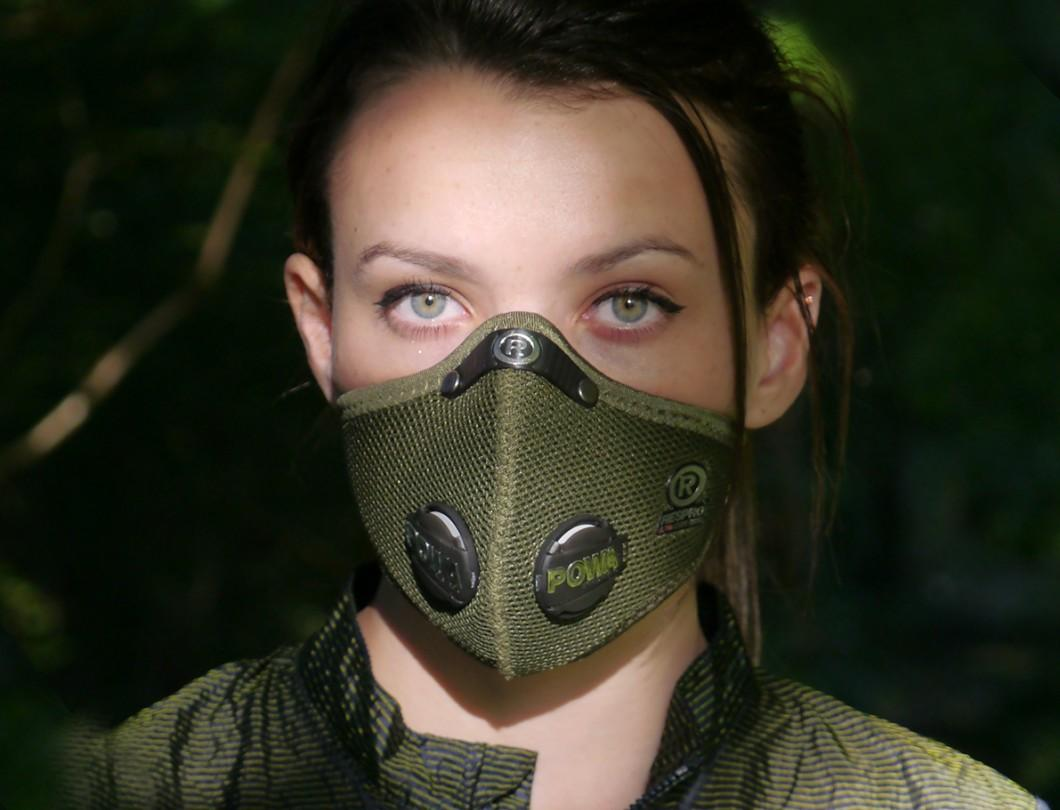Wearing Mask: (184, 4, 845, 710)
